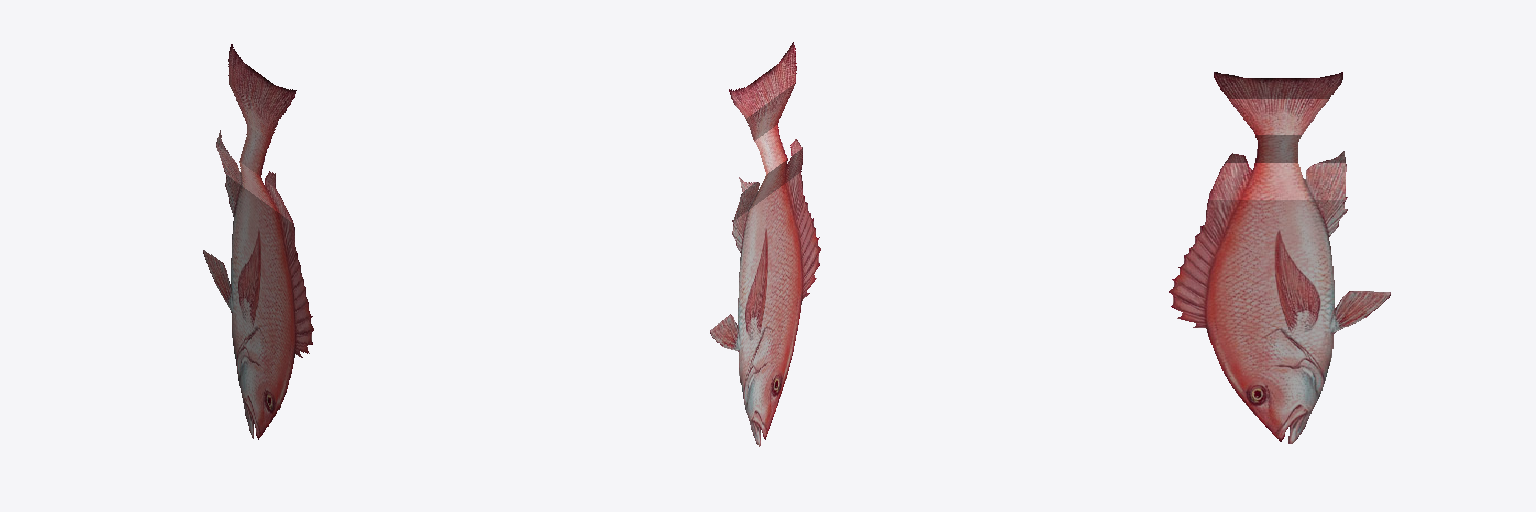
The picture shows the model from 3 angles: view 1: azimuth 30°, elevation 25°; view 2: azimuth 150°, elevation 25°; view 3: azimuth 270°, elevation 25°; orthographic projection.
Bounding box in the file's own units: 0.0817 × 1.97 × 1.06.
1 materials, 1 textured.